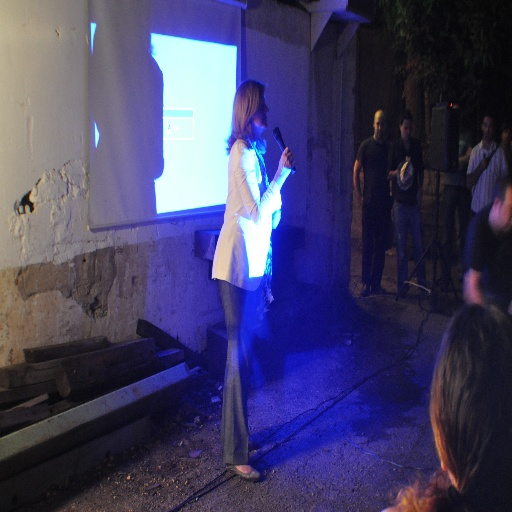hand: (277, 146, 296, 176)
